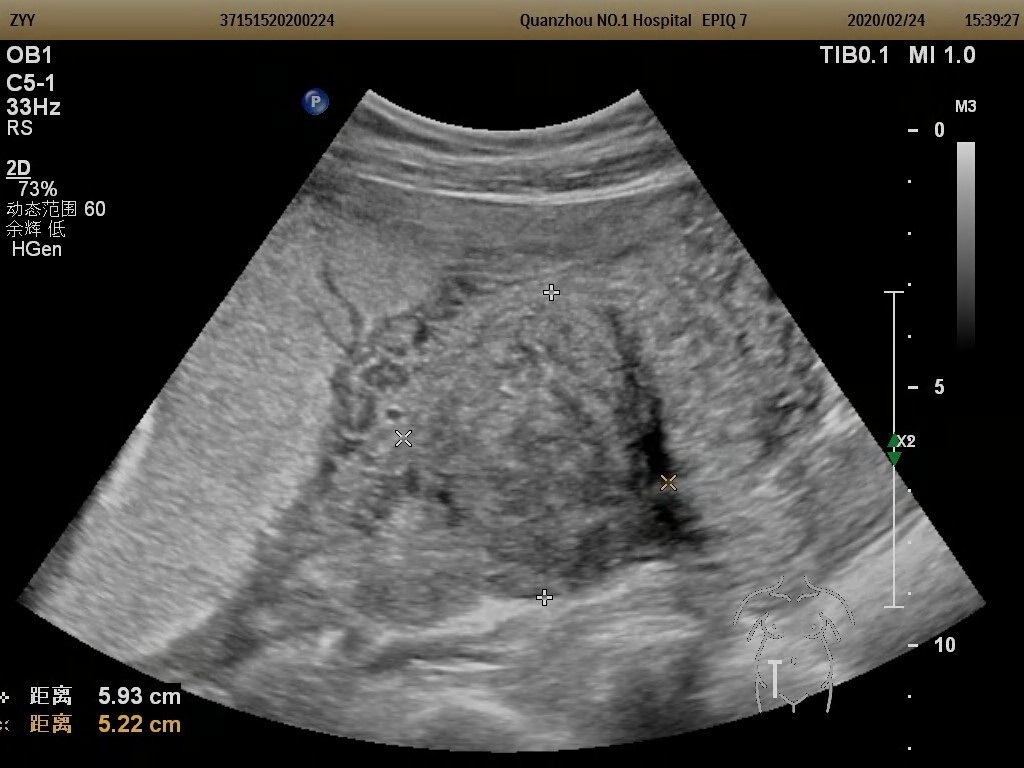肌瘤: (404, 293, 664, 605)
